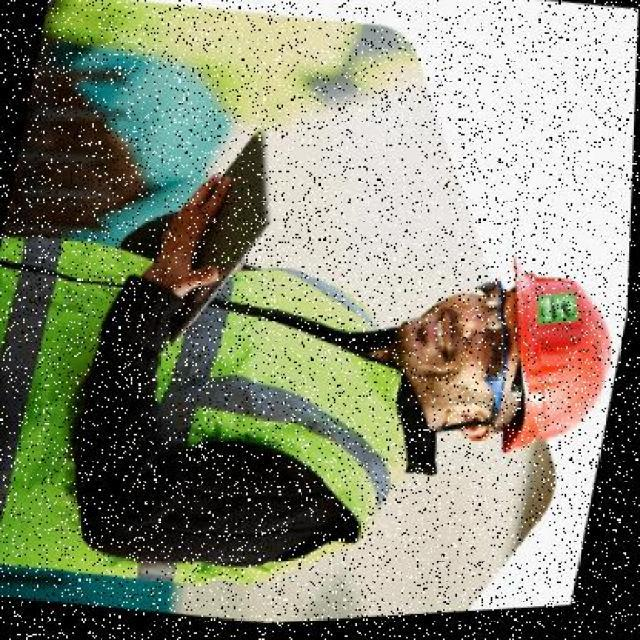helmet: (479, 269, 625, 479)
vest: (0, 189, 443, 630)
